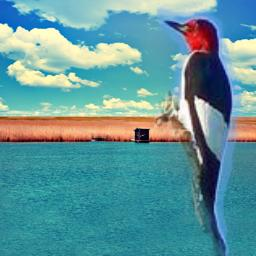Woodpecker: (154, 0, 249, 256)
